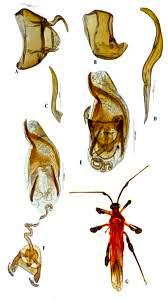Helopeltis-insect: (91, 199, 138, 293)
